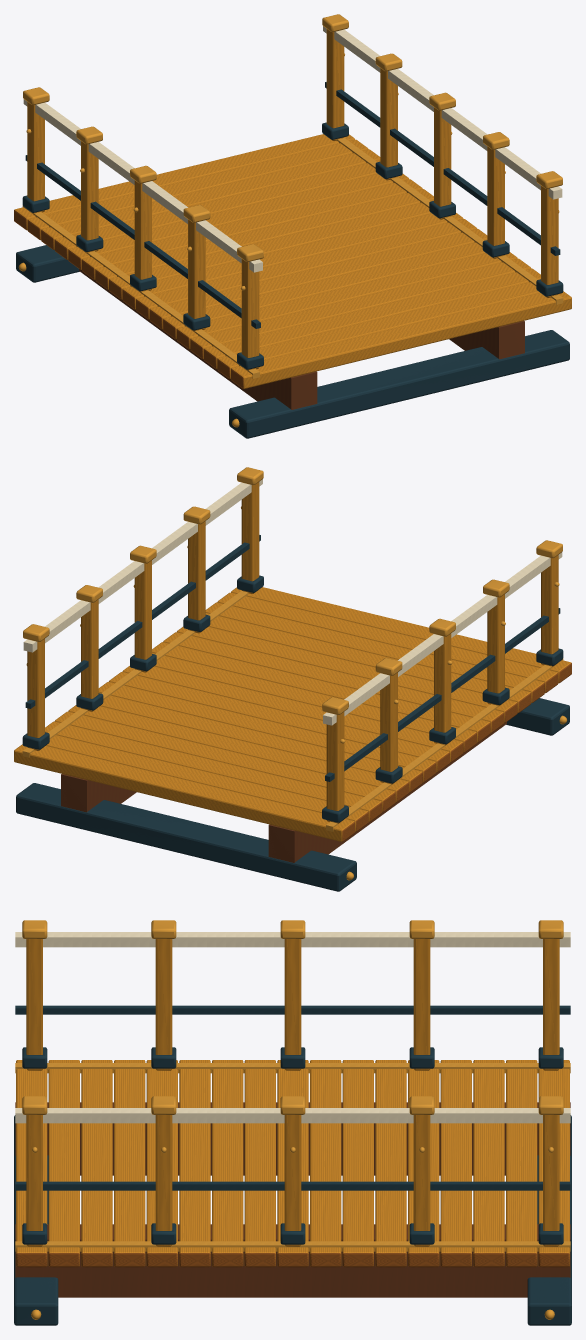
The model's file is Building_Bridge_TimberDeck4m_001.glb.
3 renders of one model, top to bottom at view 1: azimuth 30°, elevation 25°; view 2: azimuth 150°, elevation 25°; view 3: azimuth 270°, elevation 25°, orthographic. The views are drawn at different scales.
Parts seen in each view (by area): view 1: TimberDeck4m_Body; view 2: TimberDeck4m_Body; view 3: TimberDeck4m_Body.
Part boxes in pixels (x1=…): TimberDeck4m_Body: x1=14, y1=14, x2=571, y2=438; TimberDeck4m_Body: x1=14, y1=467, x2=571, y2=891; TimberDeck4m_Body: x1=14, y1=920, x2=571, y2=1325.
Size of the model in its own units: 3.35 by 1.74 by 4.02.
1 material, 1 textured.
